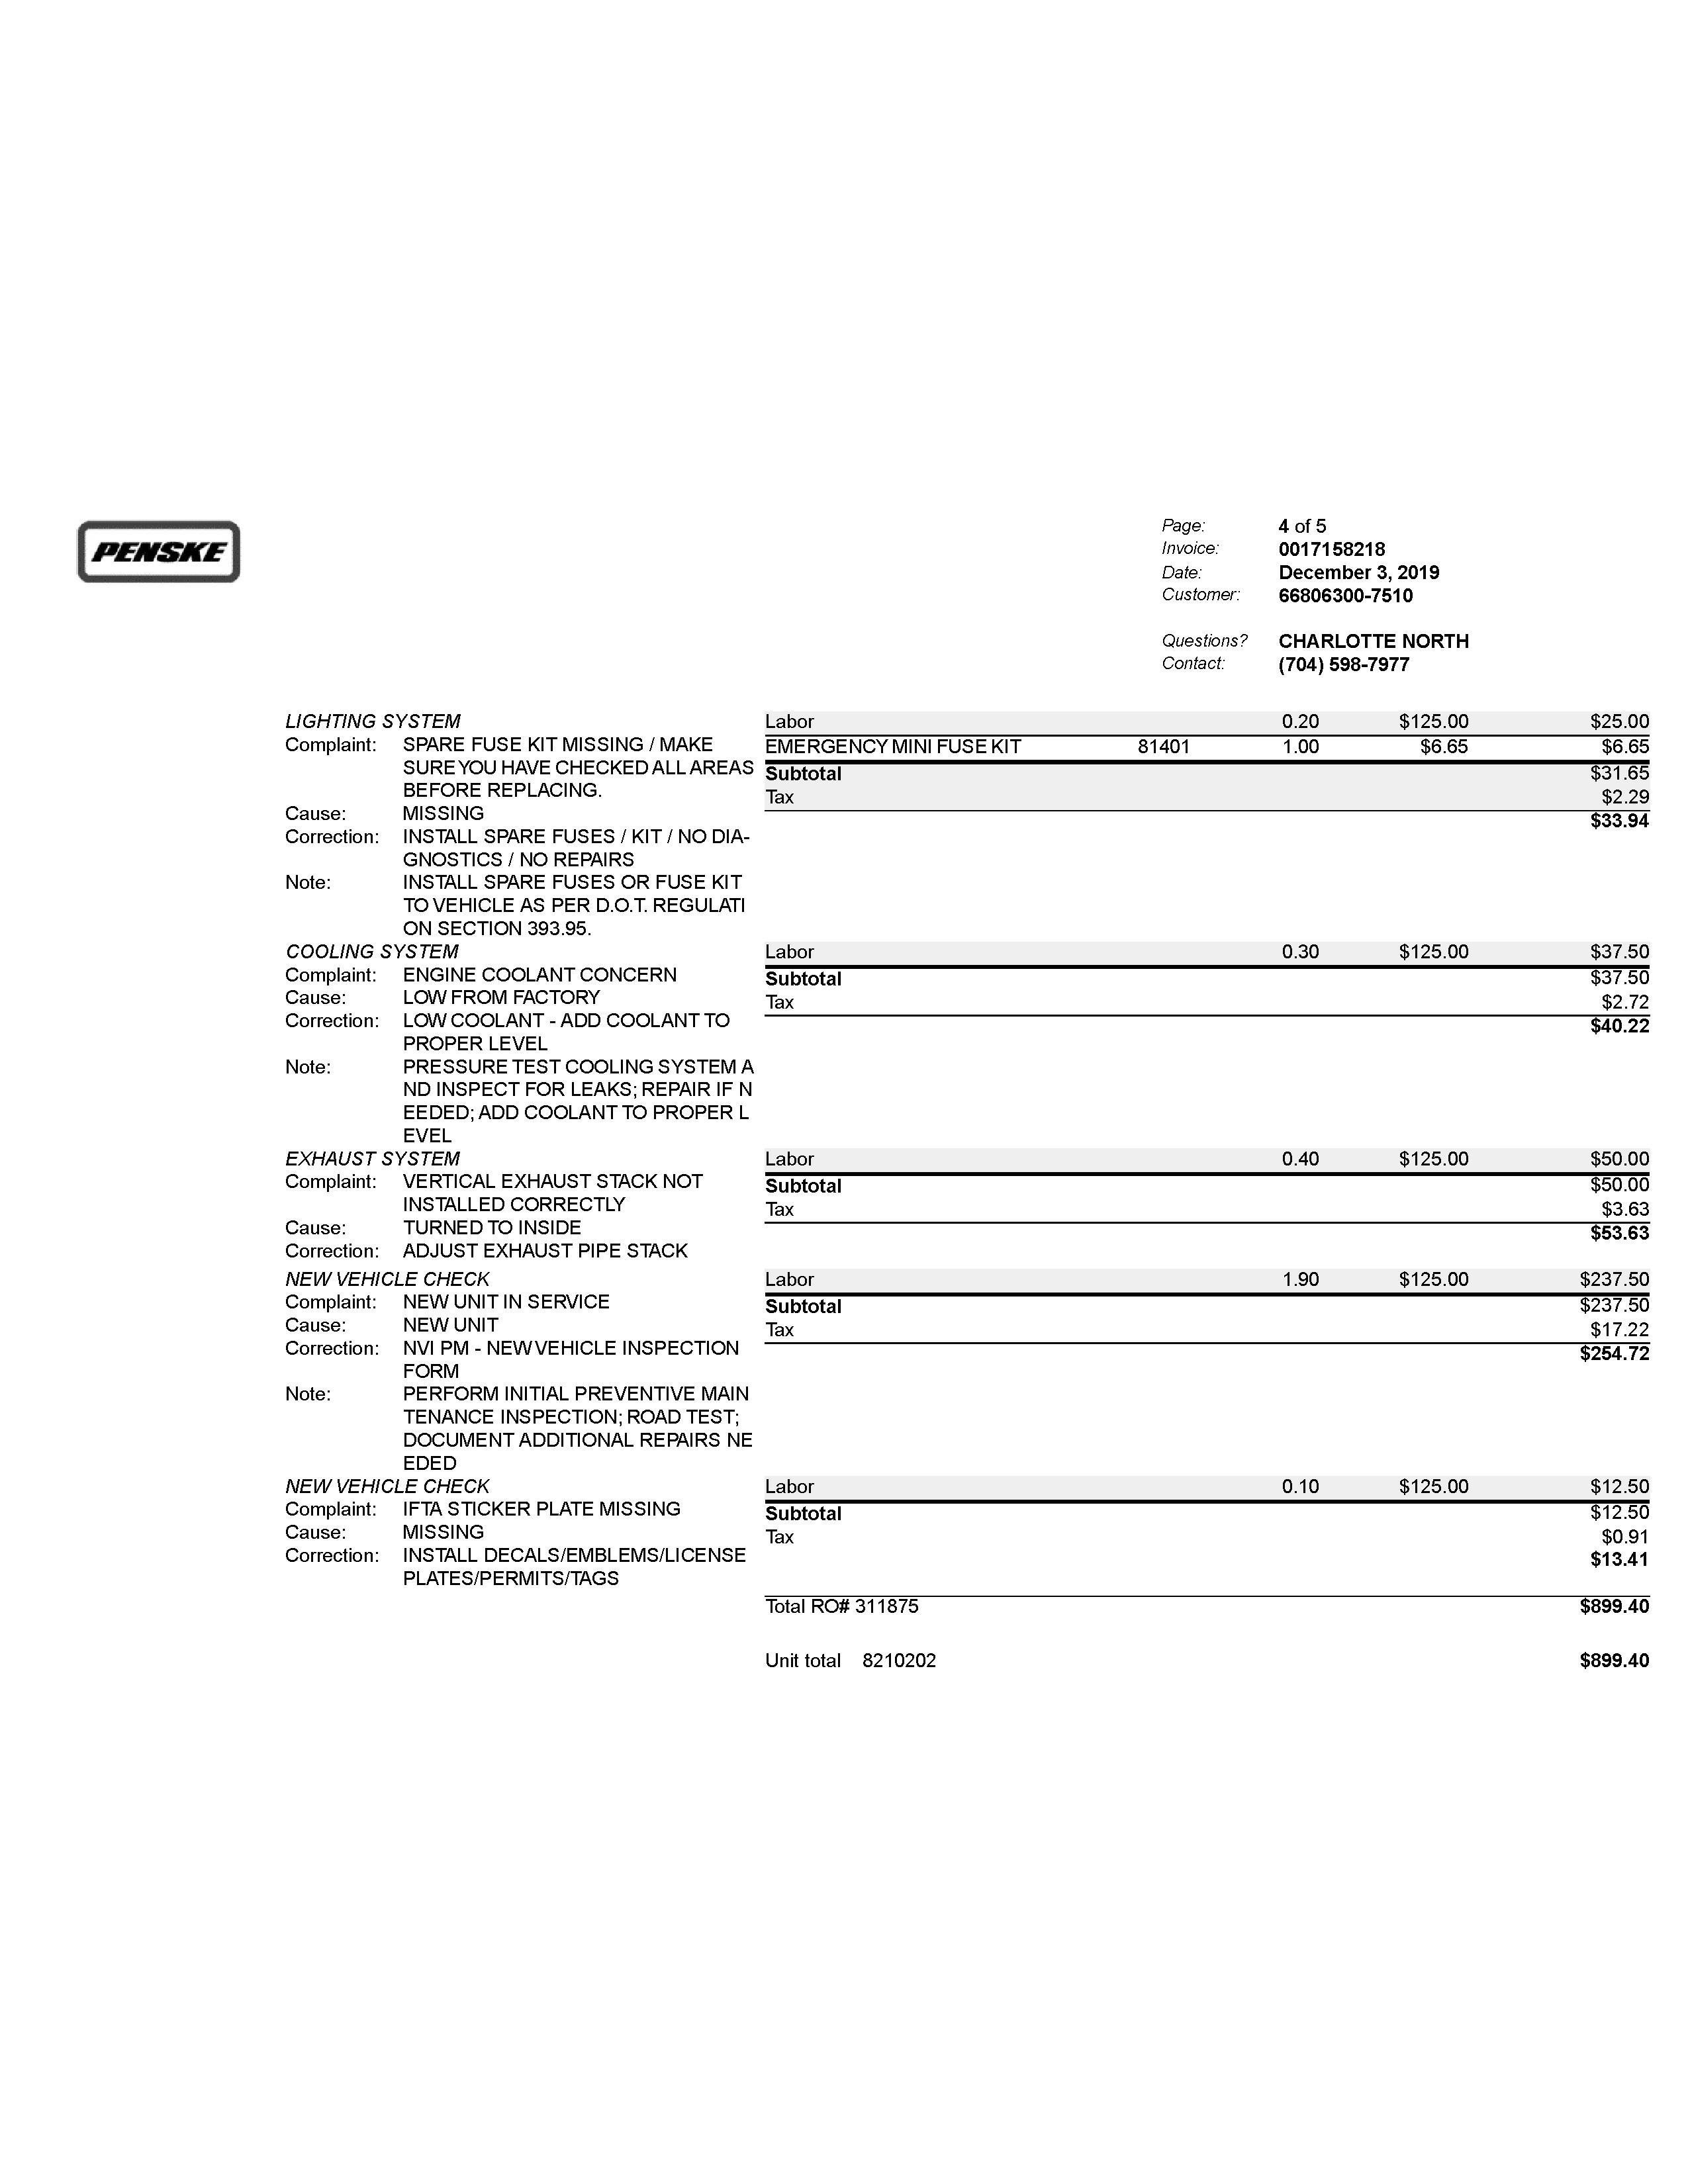B_Paragraph: (285, 700, 757, 1592), (1138, 507, 1472, 686)
B_Table: (761, 698, 1656, 1677)
B_Title: (62, 516, 245, 589)
